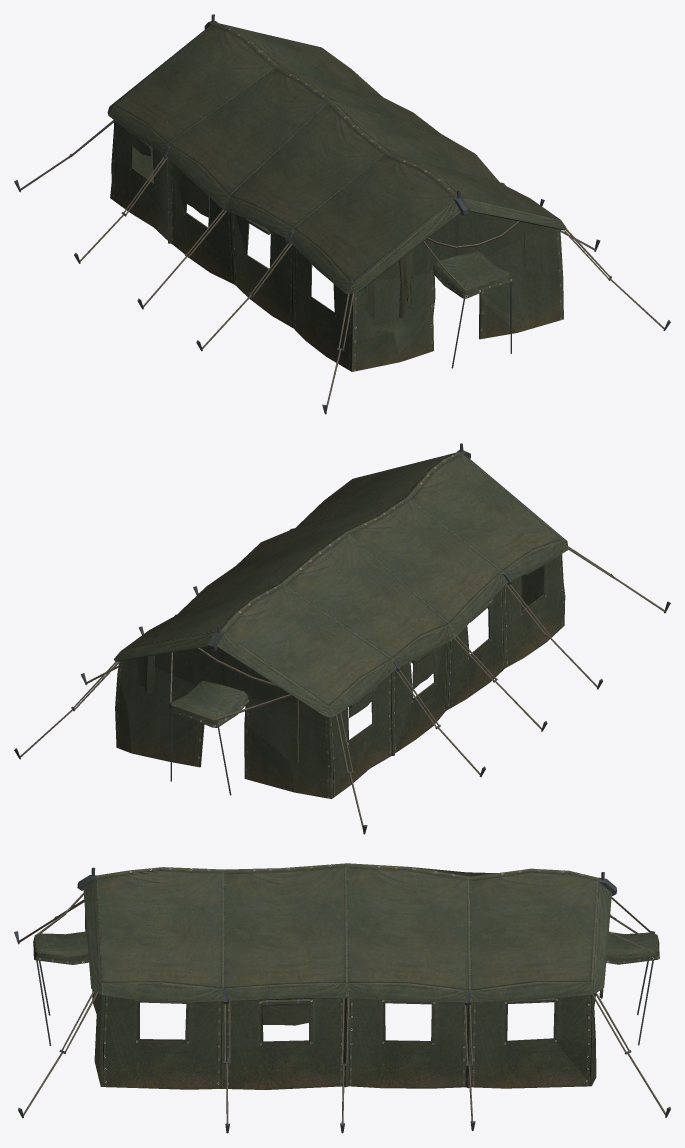
Rendered from millitary-tent.dae.
3 views of the same model, one above another, from view 1: azimuth 30°, elevation 25°; view 2: azimuth 150°, elevation 25°; view 3: azimuth 270°, elevation 25° (orthographic). The views are drawn at different scales.
Parts seen in each view (by area): view 1: Tent_Bg; view 2: Tent_Bg; view 3: Tent_Bg.
Boxes of the visible parts, <box> form: Tent_Bg: <box>14,14,670,414</box>; Tent_Bg: <box>14,443,670,834</box>; Tent_Bg: <box>14,863,670,1133</box>.
Bounding box in the file's own units: 75.03 × 100 × 28.84.
2 materials, 1 textured.
